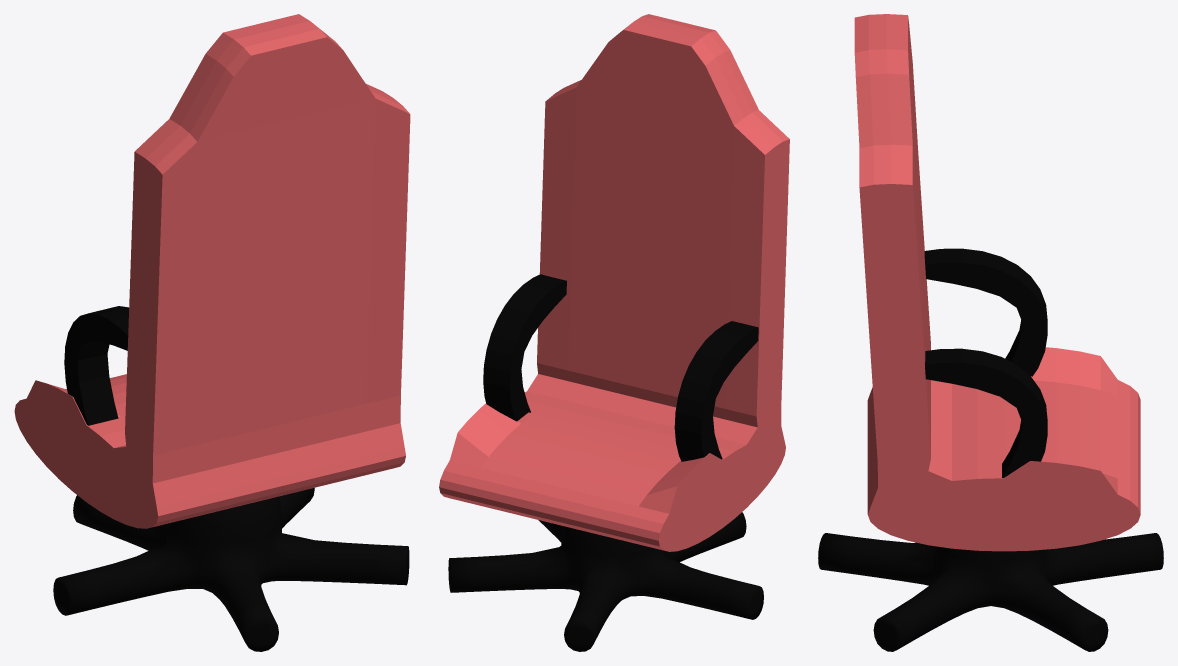
File: chairforgamefinal.fbx
3 views of the same model, side by side, from view 1: azimuth 30°, elevation 25°; view 2: azimuth 150°, elevation 25°; view 3: azimuth 270°, elevation 25° (orthographic). The views are drawn at different scales.
Visible parts, largest first — view 1: chair, chairlegs, chairhandles; view 2: chair, chairlegs, chairhandles; view 3: chair, chairlegs, chairhandles.
Part boxes in pixels (x1,y1,x2,y2): chair: [14, 14, 410, 528]; chairlegs: [53, 488, 409, 651]; chairhandles: [64, 306, 128, 425]; chair: [439, 14, 789, 551]; chairlegs: [448, 512, 763, 651]; chairhandles: [483, 274, 758, 461]; chair: [854, 14, 1140, 551]; chairlegs: [818, 533, 1163, 651]; chairhandles: [924, 248, 1047, 477].
Size of the model in its own units: 442 by 827 by 464.
